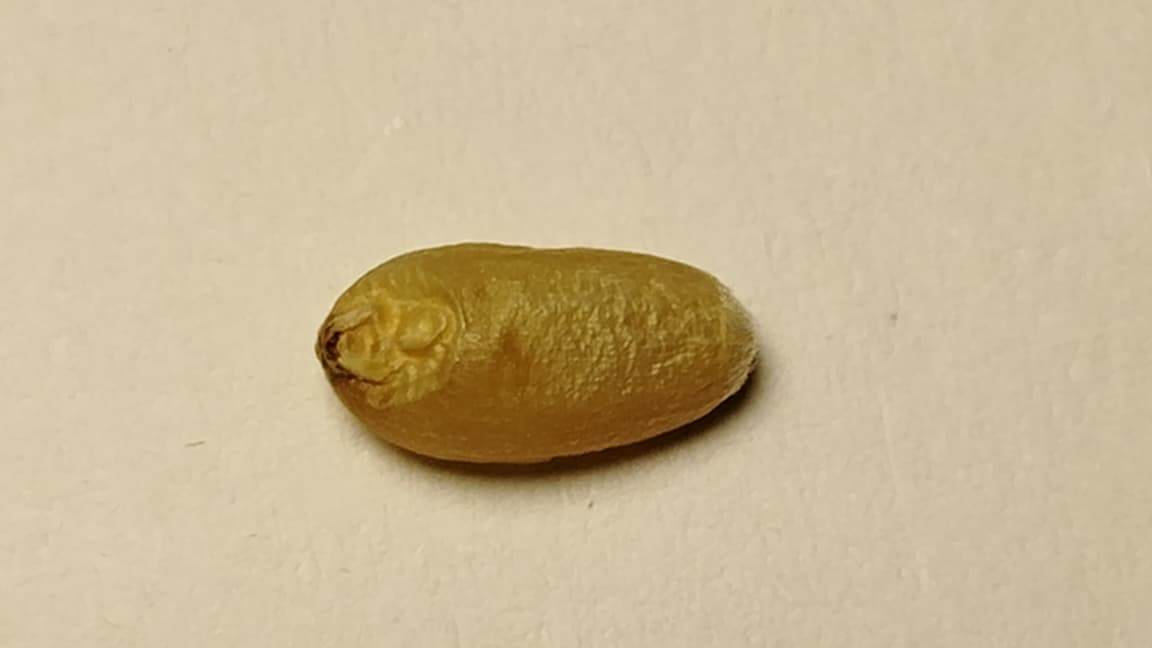black_point: (314, 307, 371, 386)
healthy: (317, 242, 756, 467)
